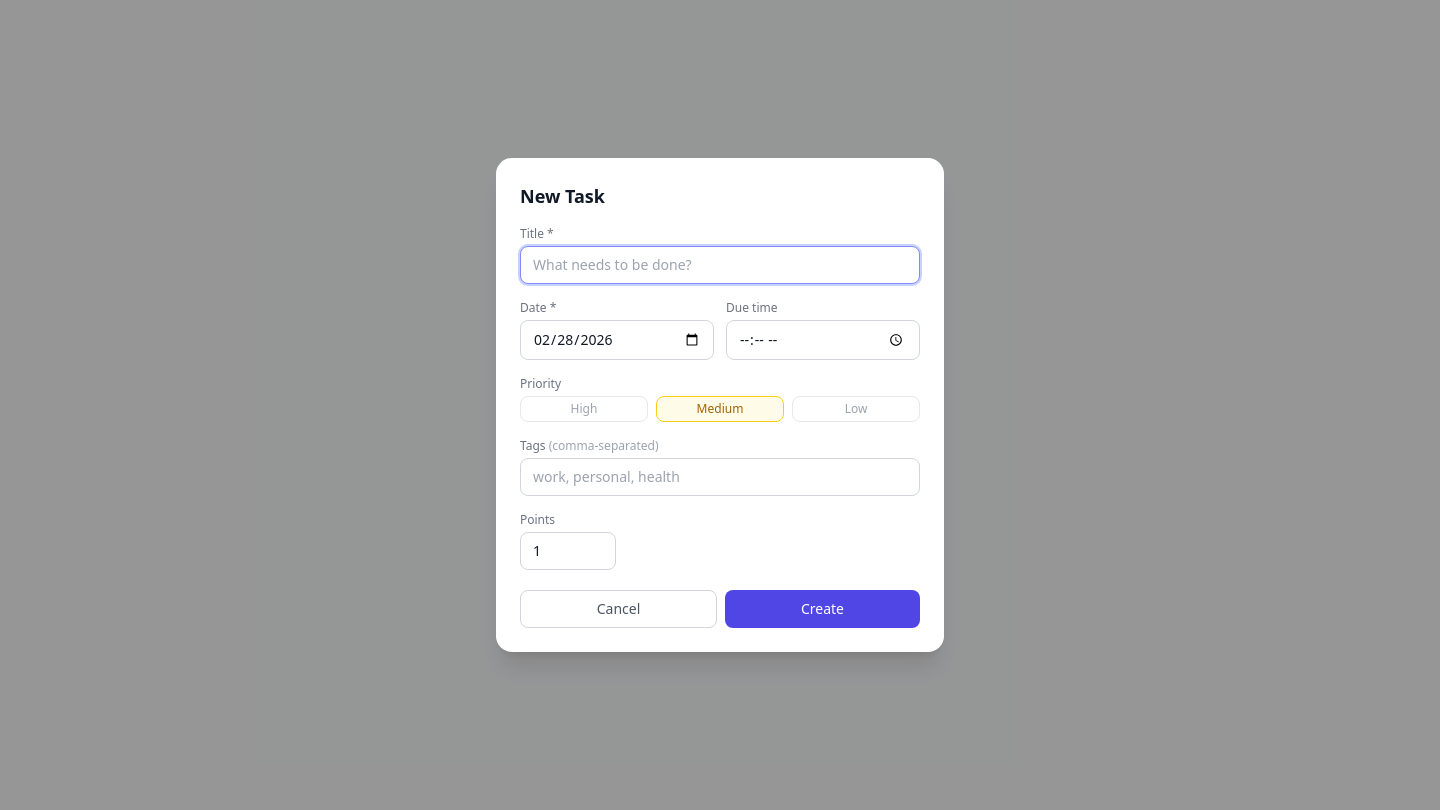
Scenario: TaskForm — create mode › shows error message on createTask failure
Type "Failing task" into the field with placeholder "What needs to be done?". click: (720, 265)
box: x1=520 y1=246 x2=920 y2=284
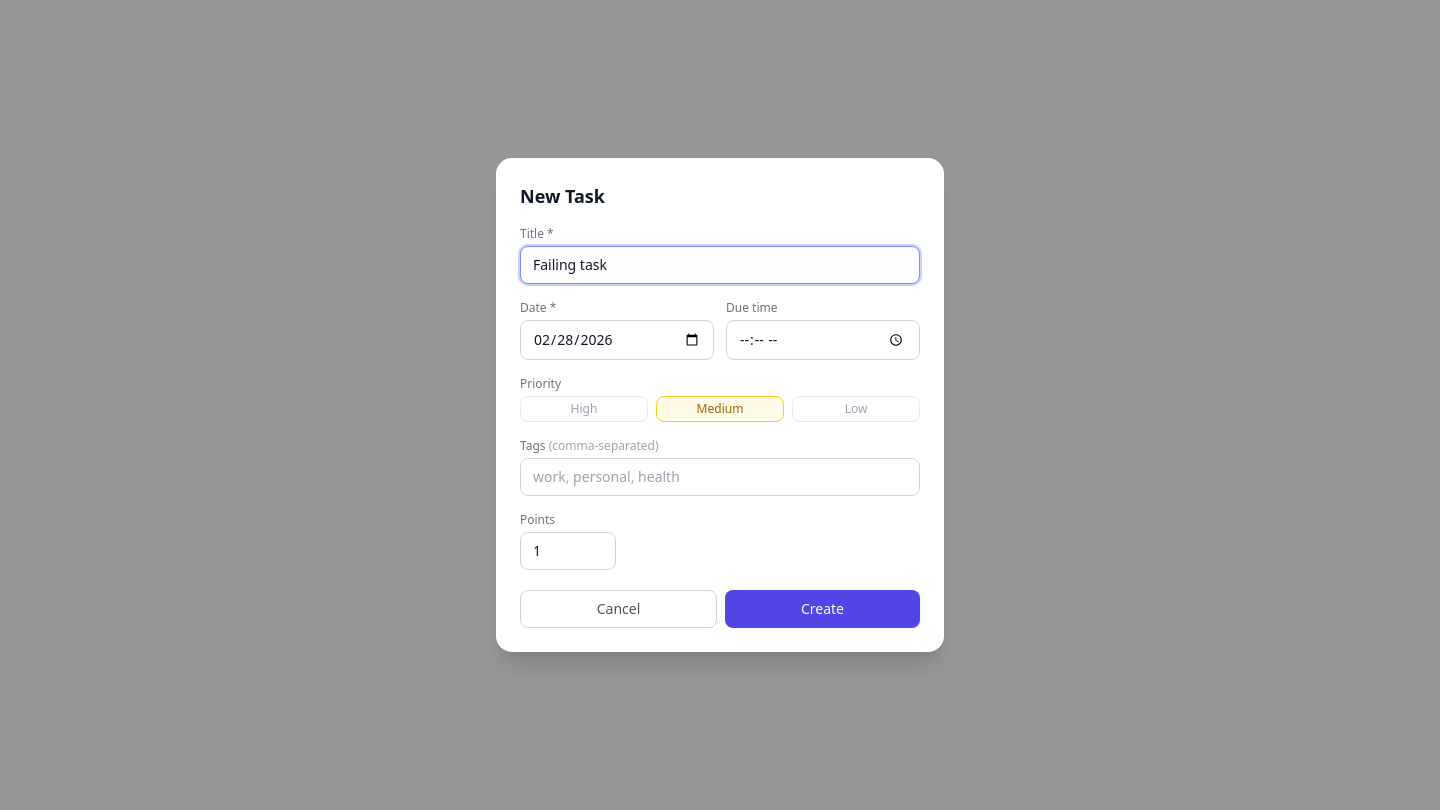
Click the button "Create". click: (822, 609)
box: x1=725 y1=590 x2=920 y2=628
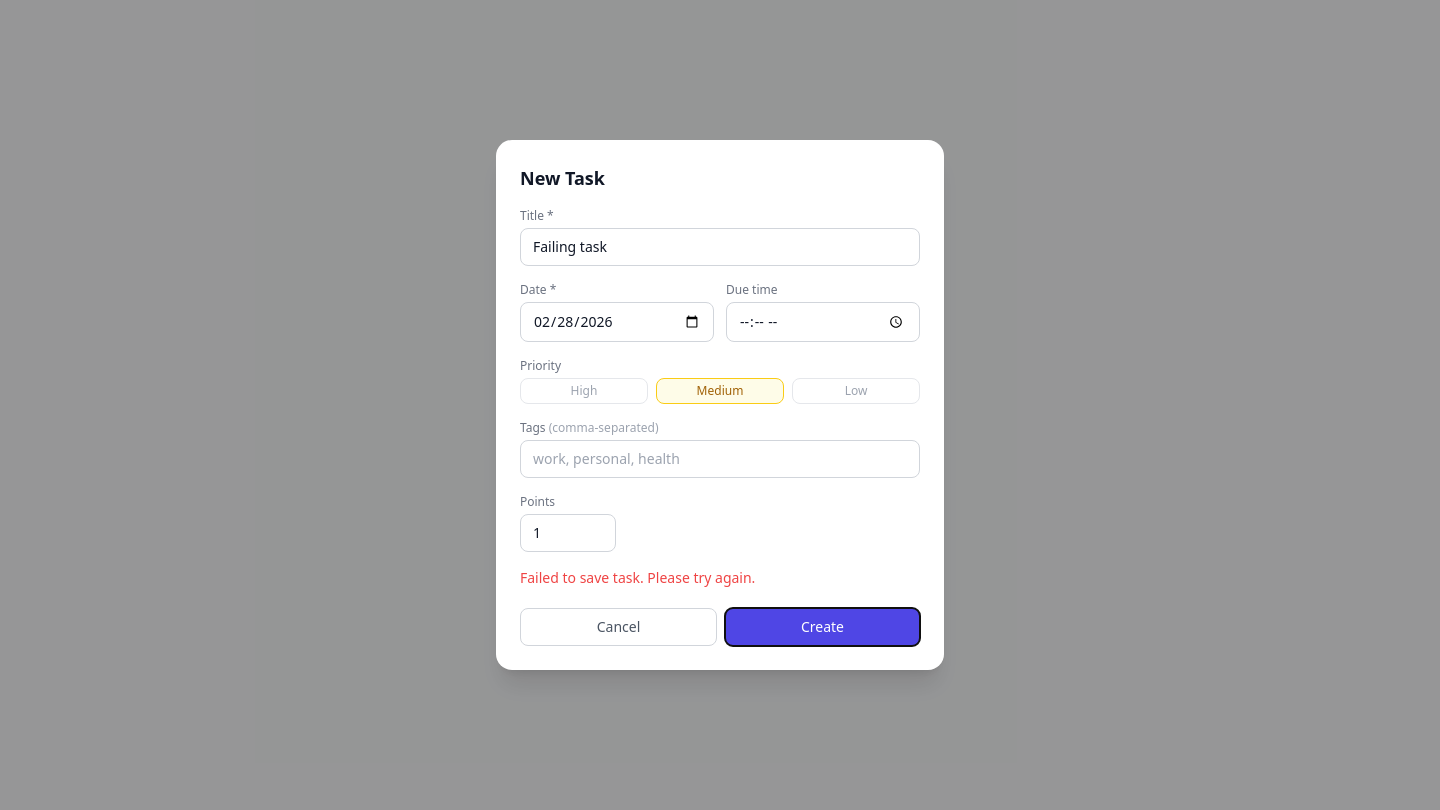
expect the text "Failed to save task. Please try again." is shown: met, box x1=520 y1=568 x2=755 y2=587
